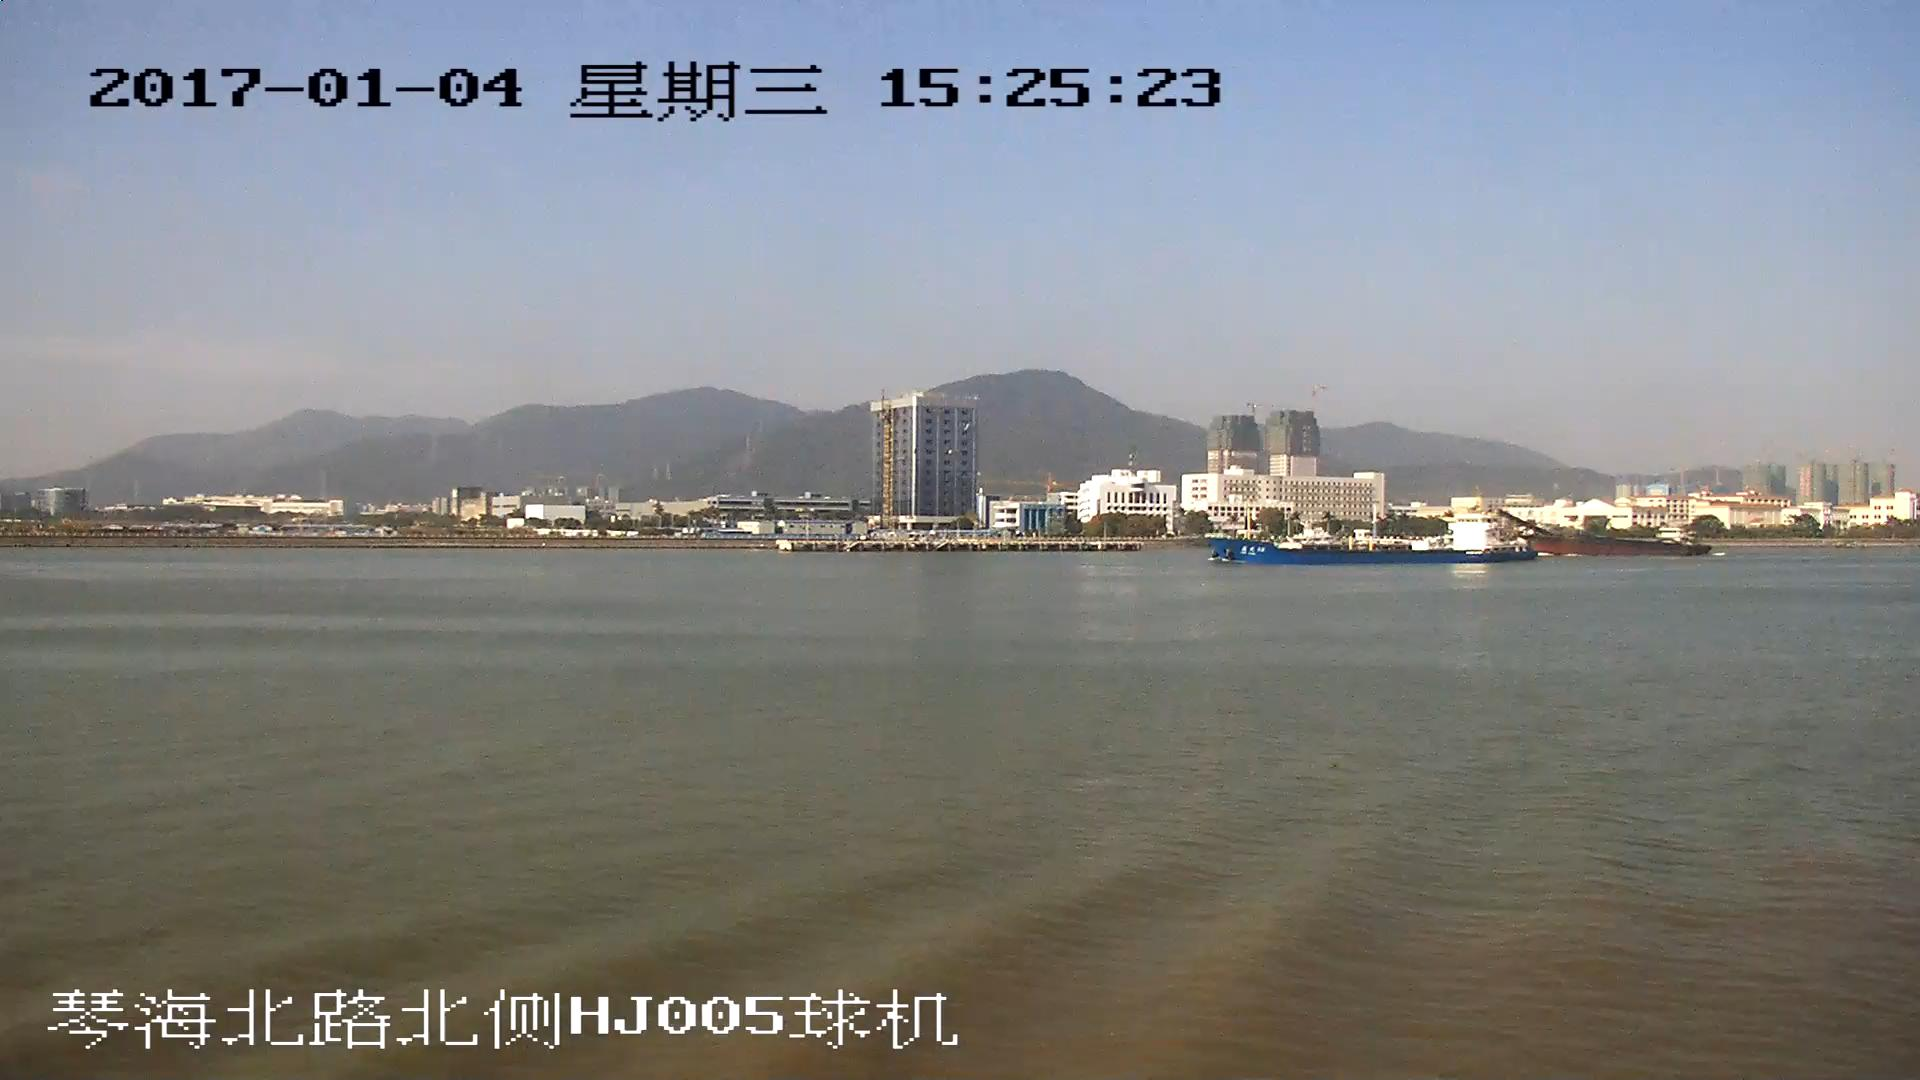bulk cargo carrier: (1504, 512, 1711, 553)
general cargo ship: (1219, 517, 1531, 567)
